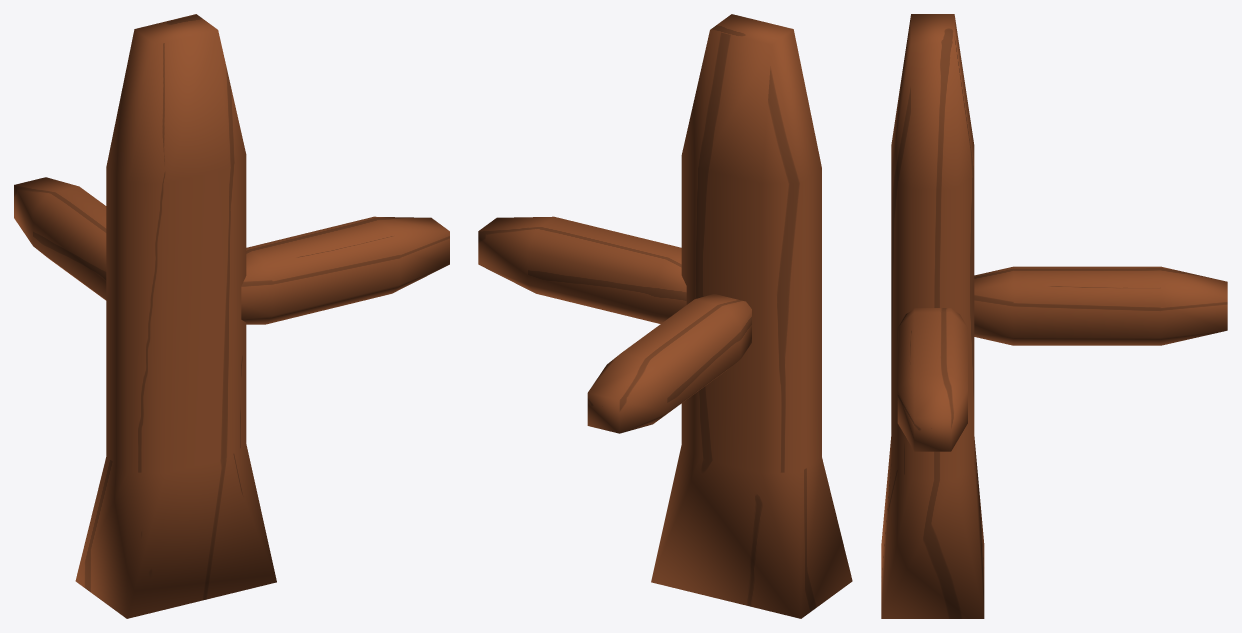
The model's file is cercaQUINA.fbx.
3 renders of one model, left to right at view 1: azimuth 30°, elevation 25°; view 2: azimuth 150°, elevation 25°; view 3: azimuth 270°, elevation 25°, orthographic.
Visible parts, largest first — view 1: Cube.001; view 2: Cube.001; view 3: Cube.001.
Boxes of the visible parts, x1,y1,x2,y2 form: Cube.001: [14, 14, 449, 618]; Cube.001: [478, 14, 852, 618]; Cube.001: [881, 14, 1227, 618].
Size of the model in its own units: 129 by 200 by 114.
